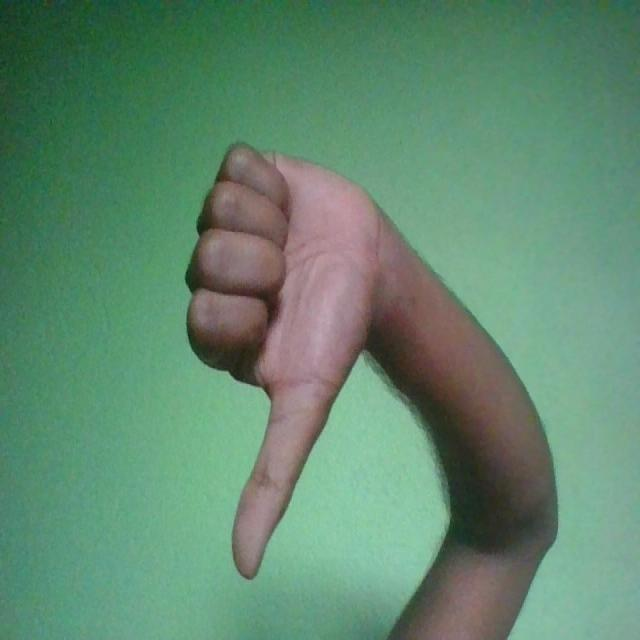Dislike: (186, 144, 390, 580)
